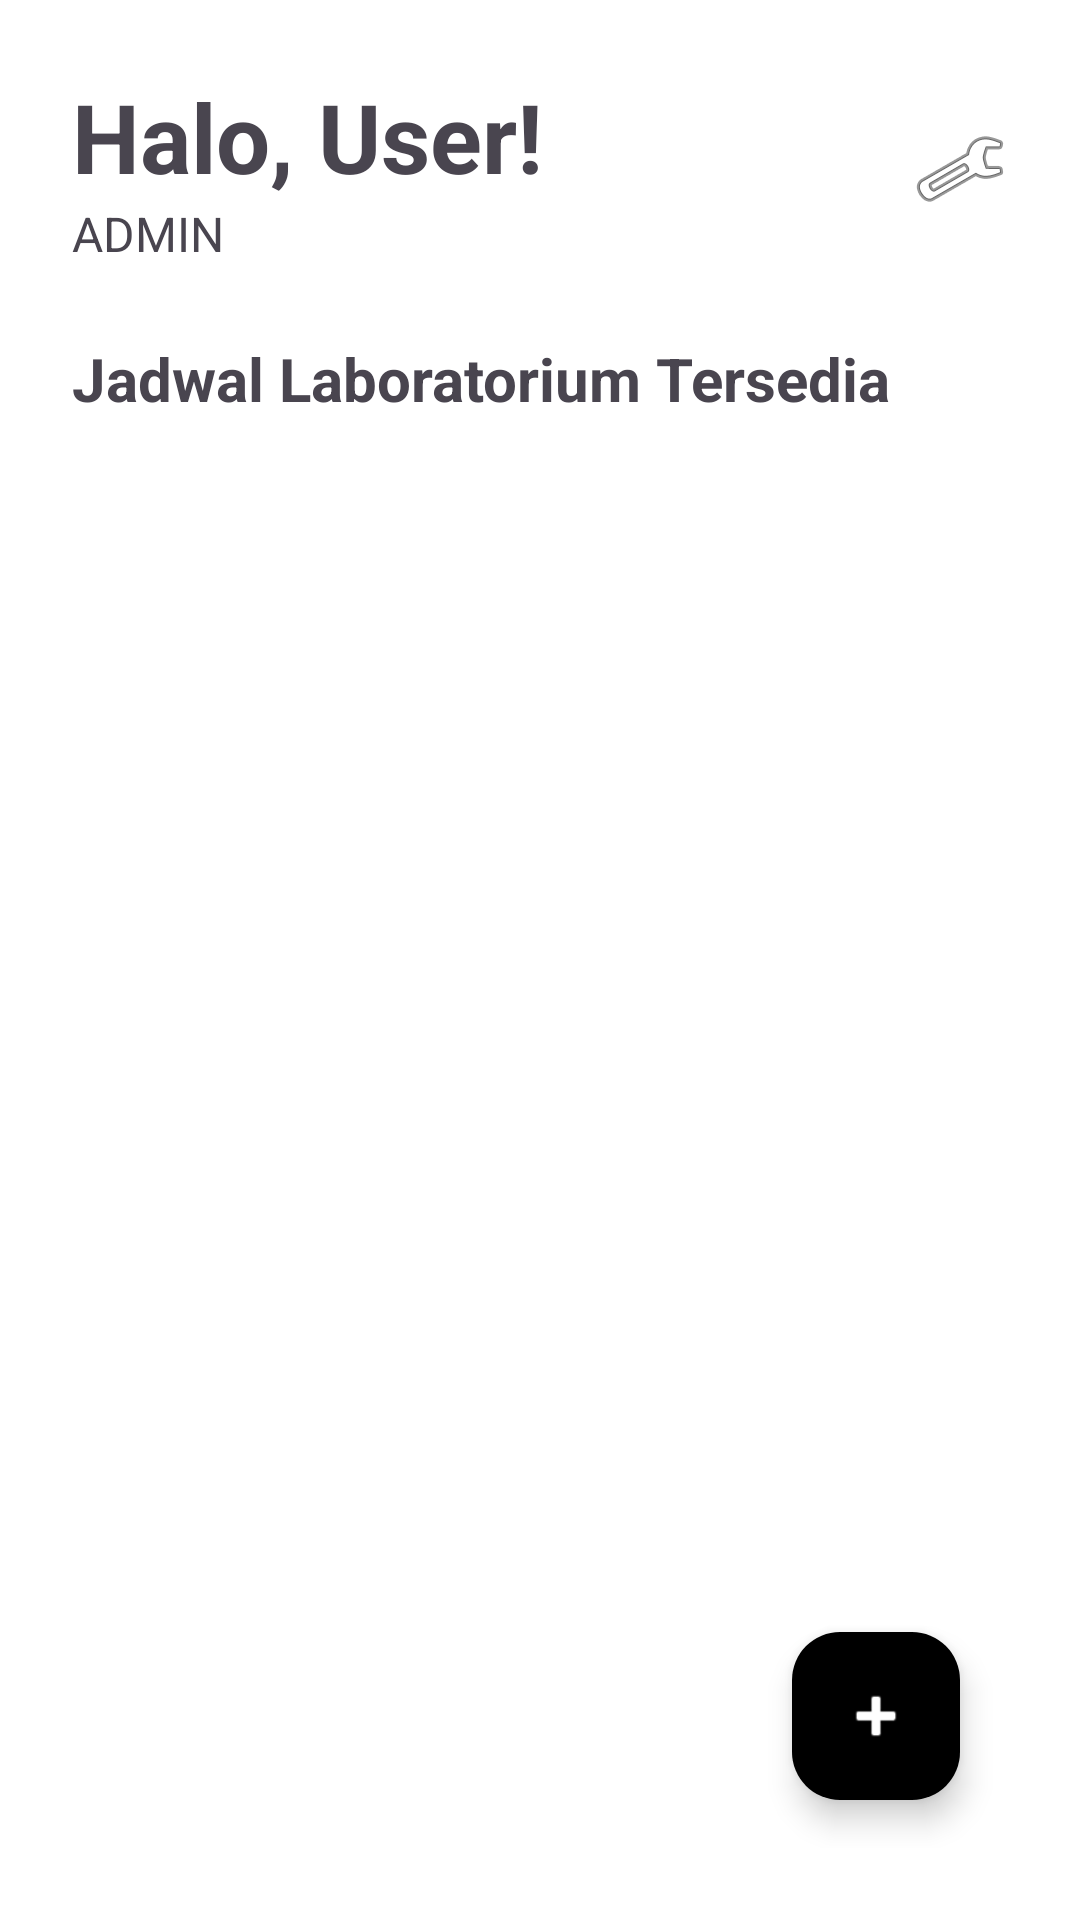

Named icons in this screenshot (1080 × 1920) and their centers, (x=x, y=y):
add: (x=876, y=1716)
preferences: (x=960, y=169)
